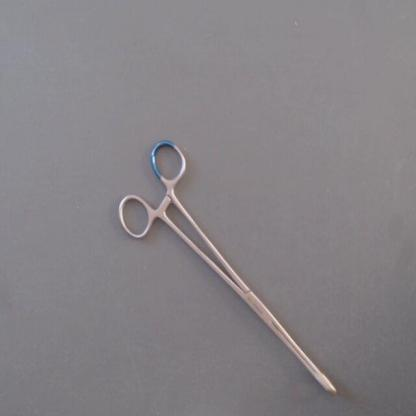Sponge Forceps: (114, 134, 346, 406)
